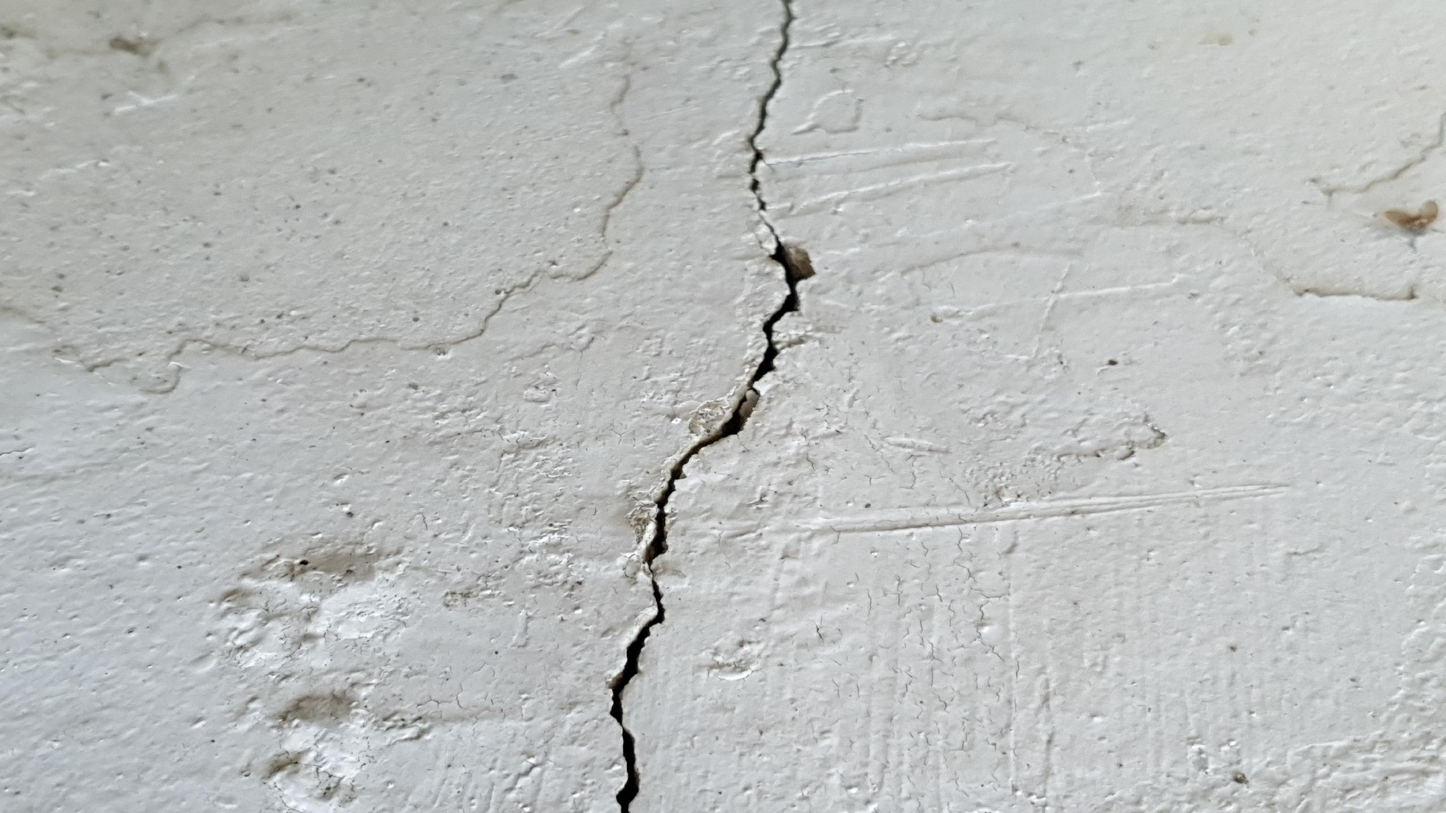crack: (608, 0, 809, 809)
